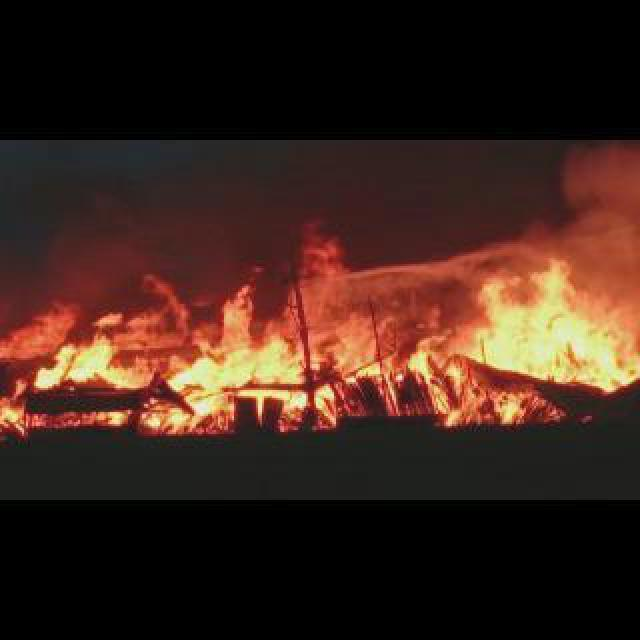Fire: (2, 218, 640, 466)
